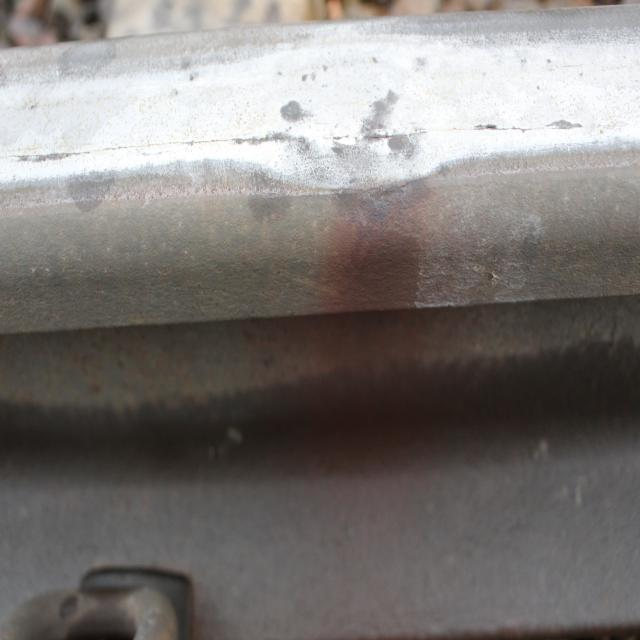11: (235, 22, 450, 192)
squats_high: (11, 126, 288, 165), (466, 114, 586, 136), (15, 145, 75, 167)
